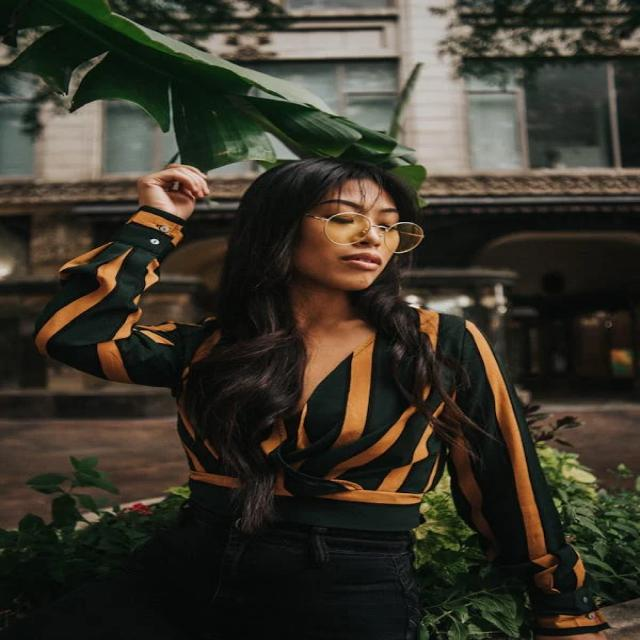Real human 2: (36, 141, 602, 638)
